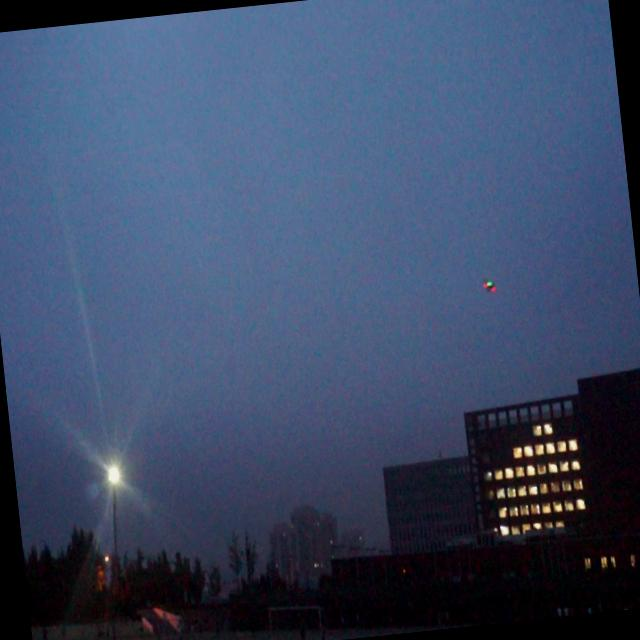drone: (480, 278, 498, 298)
